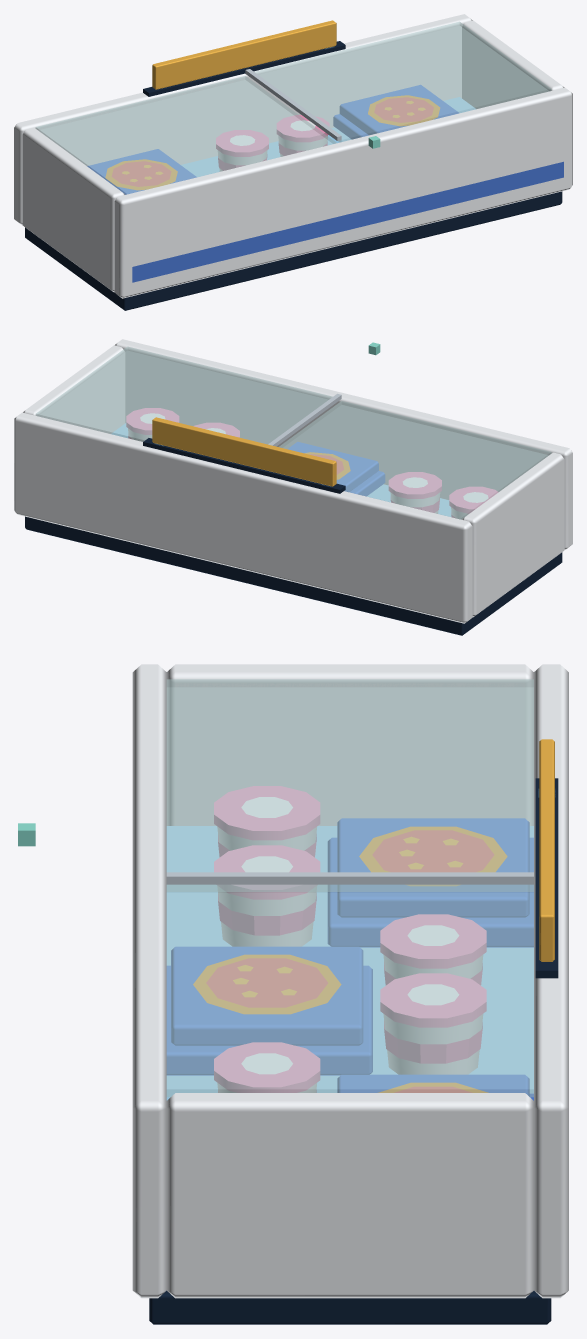
Rendered from CM_Fixture_FreezerChest.fbx.
3 views of the same model, one above another, from view 1: azimuth 30°, elevation 25°; view 2: azimuth 150°, elevation 25°; view 3: azimuth 270°, elevation 25° (orthographic). The views are drawn at different scales.
Parts seen in each view (by area): view 1: Body, Glass, PriceTag, Item6, Item5, Item4; view 2: Body, Glass, PriceTag, Item1, Item2, Item3; view 3: Body, Glass, Item2, Item4, Item5, Item1, Item3, Item6, PriceTag.
Part boxes in pixels (<box>): Body: <box>14,14,572,310</box>; Glass: <box>35,21,551,194</box>; PriceTag: <box>152,20,336,89</box>; Item6: <box>333,85,458,139</box>; Item5: <box>216,115,329,171</box>; Item4: <box>87,149,196,194</box>; Body: <box>14,339,572,635</box>; Glass: <box>35,346,551,519</box>; PriceTag: <box>152,417,336,486</box>; Item1: <box>388,472,498,519</box>; Item2: <box>288,442,385,496</box>; Item3: <box>126,408,239,441</box>; Body: <box>132,664,568,1324</box>; Glass: <box>166,679,533,1097</box>; Item2: <box>166,946,372,1075</box>; Item4: <box>327,818,533,947</box>; Item5: <box>380,914,486,1074</box>; Item1: <box>214,786,320,946</box>; Item3: <box>214,1042,320,1092</box>; Item6: <box>337,1074,533,1100</box>; PriceTag: <box>539,739,554,961</box>.
Size of the model in its own units: 12 by 6.3 by 3.6.
Materials: 2 (2 with a texture image).
